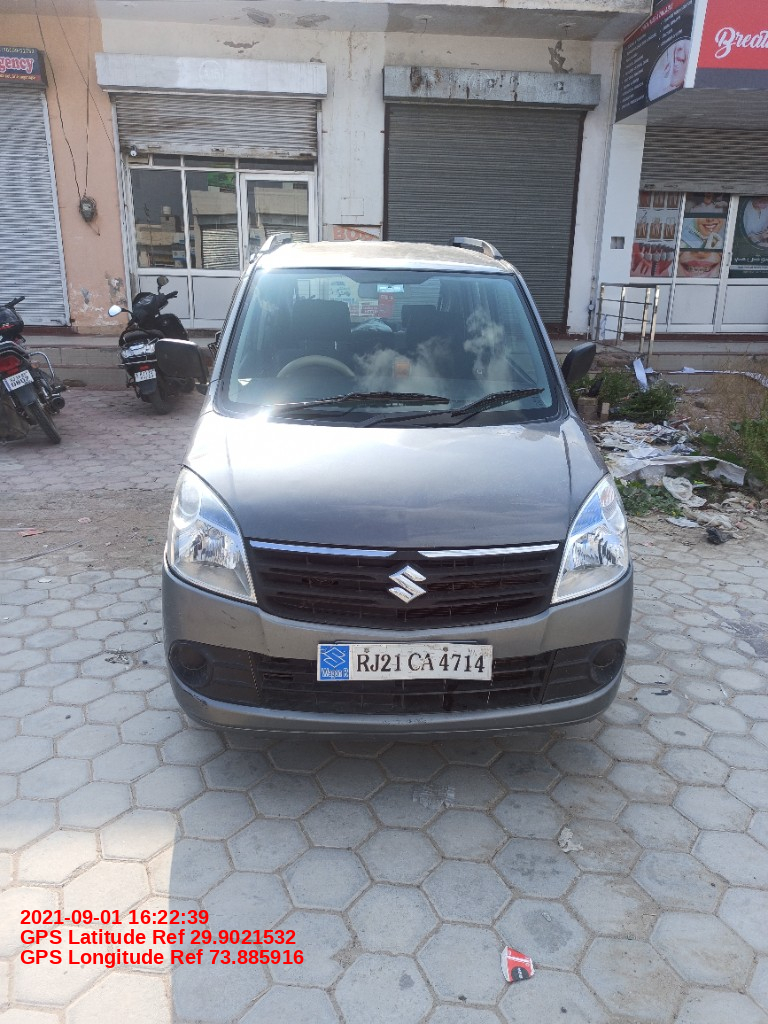Scratched: (256, 629, 295, 657), (179, 686, 213, 711), (218, 603, 242, 636), (381, 715, 438, 727)
